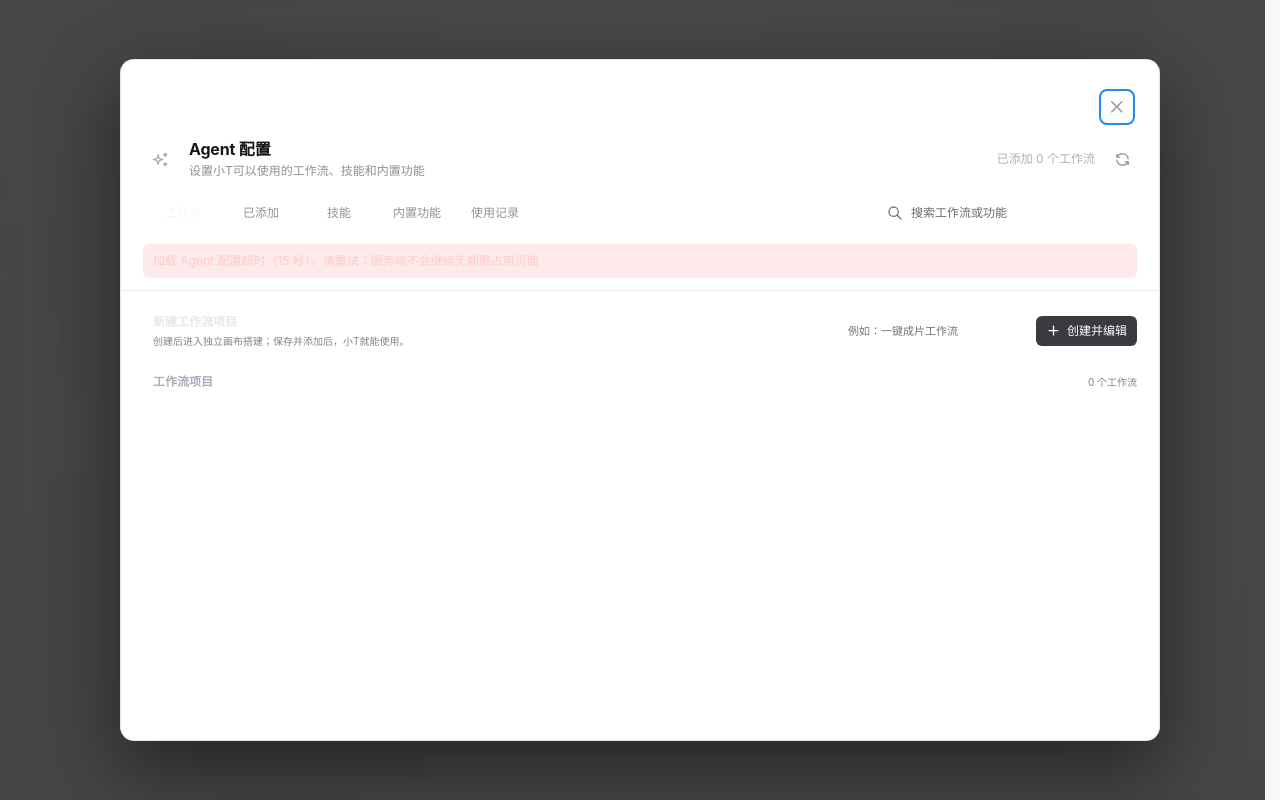
it: CapabilityBayDialog › leaves the loading state and exposes a retryable error when loading times out
Expected: the message shows "加载 Agent 配置超时（15 秒）", [153, 253, 539, 268]
Click the button named "刷新能力状态". click: (1122, 159)
box: [1107, 144, 1137, 174]
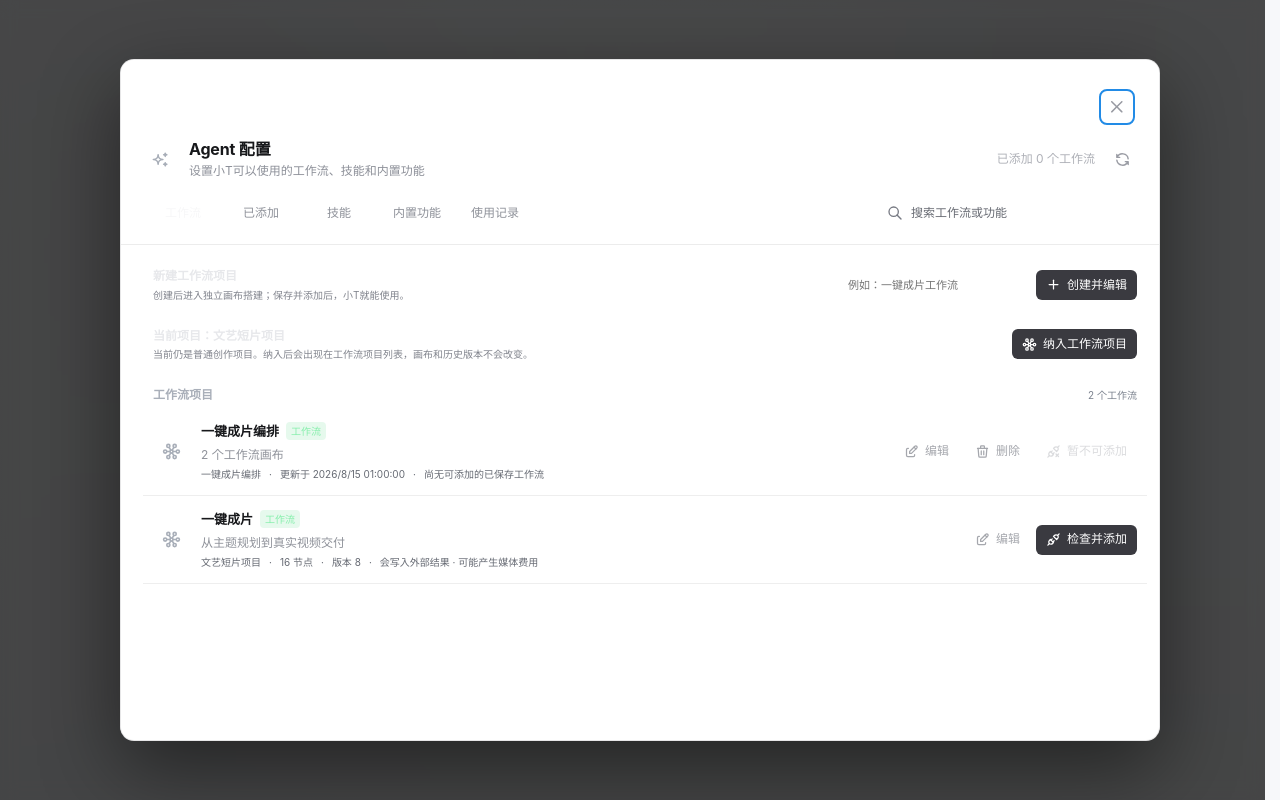
Result: the text "一键成片" is shown at [201, 509, 253, 530]
